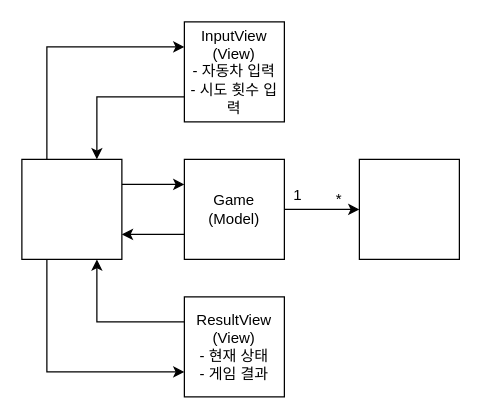
Image size: 481x419. Some labels were removed from this diagram. Here are the shapes that lost their labels. From the top down, the centre of each, then its label:
At (x=71, y=208): "Main (Controller)".
At (x=408, y=208): "Car (Model)".
